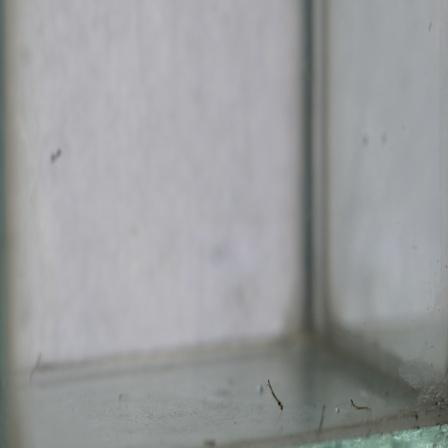Jentik-Nyamuk: (264, 378, 288, 413)
